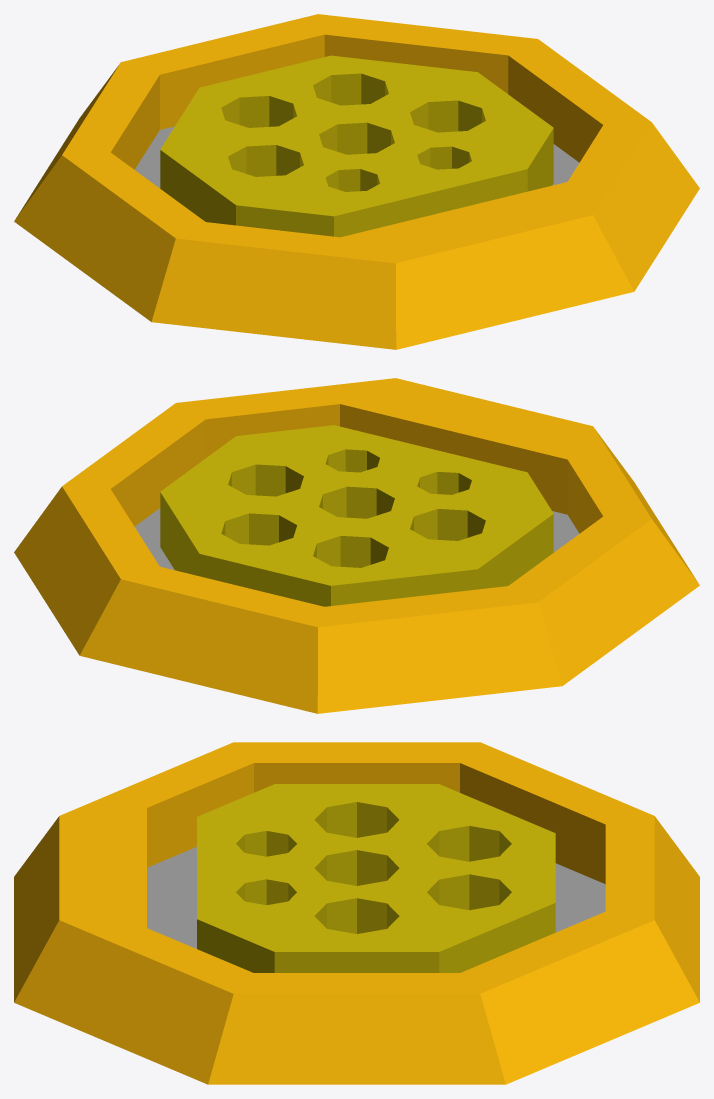
The model's file is epe_power_socket.dae.
3 renders of one model, top to bottom at view 1: azimuth 30°, elevation 25°; view 2: azimuth 150°, elevation 25°; view 3: azimuth 270°, elevation 25°, orthographic. The views are drawn at different scales.
Visible parts, largest first — view 1: embedded_power_socket; view 2: embedded_power_socket; view 3: embedded_power_socket.
Part boxes in pixels (box(x1,y1,x2,y2)): embedded_power_socket: box(14, 14, 699, 349); embedded_power_socket: box(14, 378, 699, 713); embedded_power_socket: box(14, 742, 699, 1084).
Bounding box in the file's own units: 0.104 × 0.104 × 0.012.
